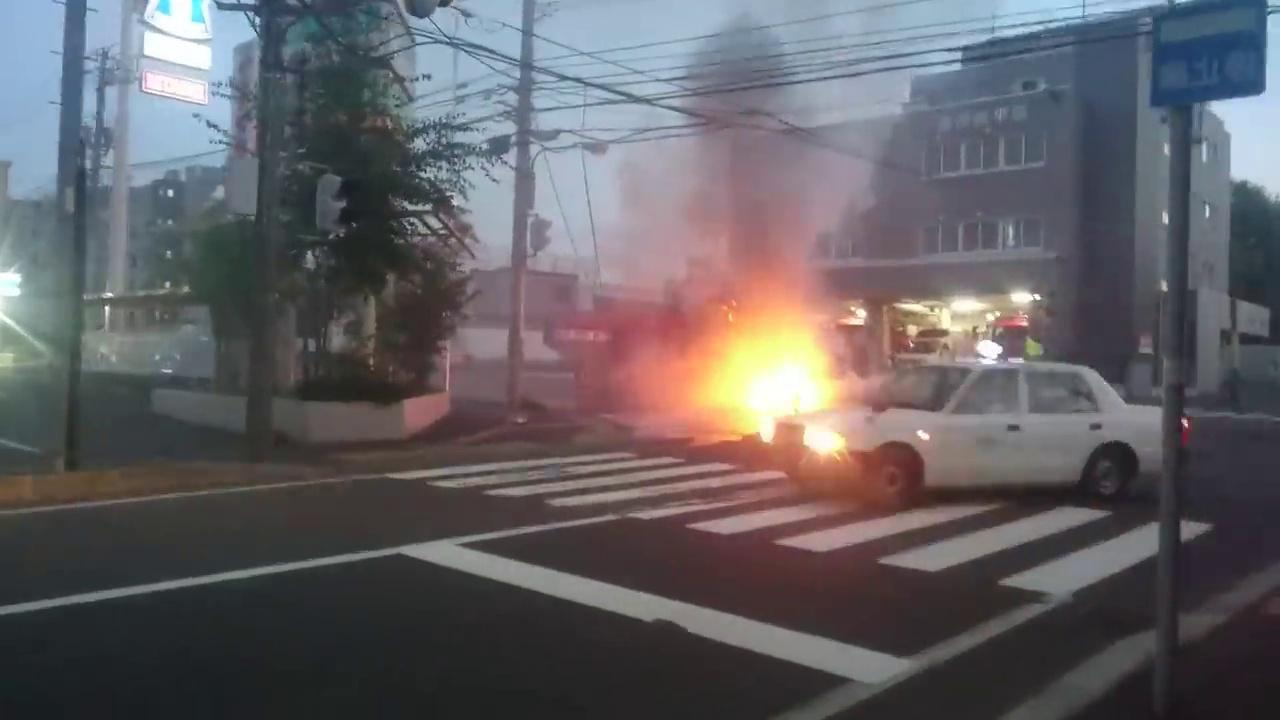Fire: (703, 320, 847, 452)
